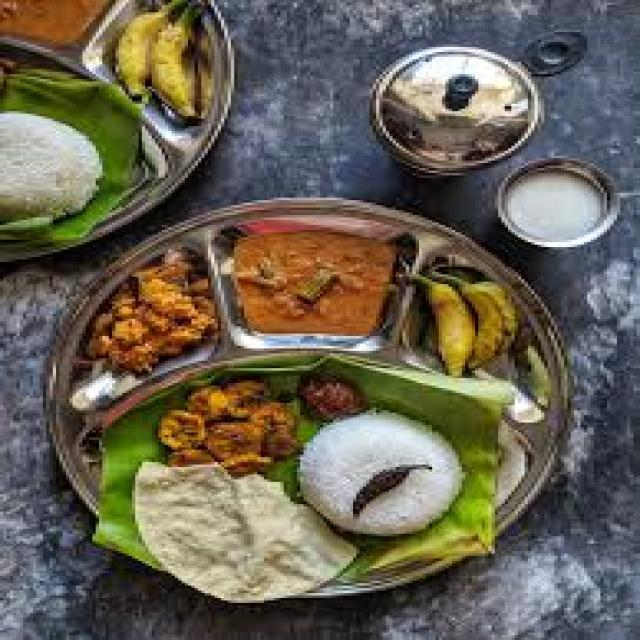curd: (484, 154, 625, 252)
papad: (129, 465, 345, 601)
rice: (2, 106, 123, 249)
sweet: (378, 51, 539, 166)
veg-fry: (216, 213, 402, 356), (85, 248, 229, 380), (0, 0, 126, 51)
